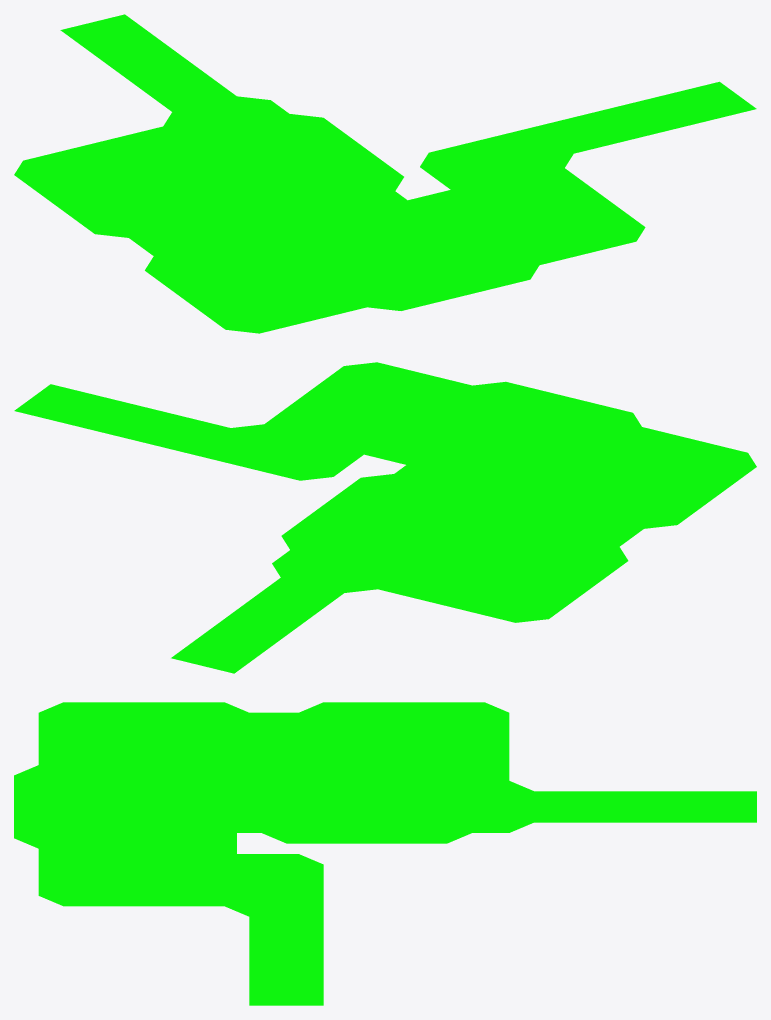
Rendered from s06a_lc1-floor.glb.
3 renders of one model, top to bottom at view 1: azimuth 30°, elevation 25°; view 2: azimuth 150°, elevation 25°; view 3: azimuth 270°, elevation 25°, orthographic.
Visible parts, largest first — view 1: collision_floor-colonly; view 2: collision_floor-colonly; view 3: collision_floor-colonly.
Boxes of the visible parts, <box> form: collision_floor-colonly: <box>14,14,756,333</box>; collision_floor-colonly: <box>14,362,756,673</box>; collision_floor-colonly: <box>14,702,756,1005</box>.
Size of the model in its own units: 58 by 0 by 60.
